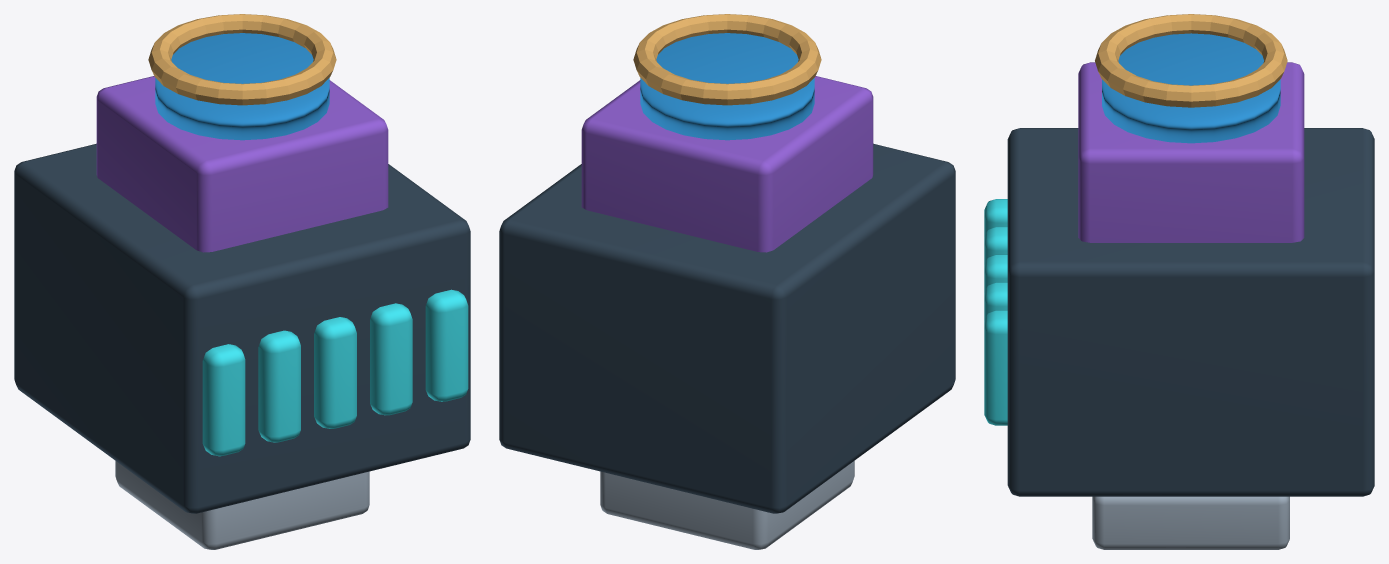
File: hyperspectral_imager.glb
The picture shows the model from 3 angles, left to right: view 1: azimuth 30°, elevation 25°; view 2: azimuth 150°, elevation 25°; view 3: azimuth 270°, elevation 25°; orthographic projection. The views are drawn at different scales.
Visible parts, largest first — view 1: Hyperspectral_Body, Spectrometer_Module, Optical_Input, Mounting_Flange, Optical_Ring, Spectral_Channel, Spectral_Channel_004, Spectral_Channel_003, Spectral_Channel_001, Spectral_Channel_002; view 2: Hyperspectral_Body, Spectrometer_Module, Optical_Input, Mounting_Flange, Optical_Ring; view 3: Hyperspectral_Body, Spectrometer_Module, Optical_Input, Mounting_Flange, Optical_Ring, Spectral_Channel_004, Spectral_Channel_002, Spectral_Channel_003, Spectral_Channel, Spectral_Channel_001.
Boxes of the visible parts, x1=… form: Hyperspectral_Body: x1=14, y1=143, x2=470, y2=513; Spectrometer_Module: x1=96, y1=76, x2=388, y2=252; Optical_Input: x1=155, y1=33, x2=329, y2=140; Mounting_Flange: x1=115, y1=461, x2=369, y2=549; Optical_Ring: x1=148, y1=14, x2=336, y2=105; Spectral_Channel: x1=202, y1=344, x2=245, y2=456; Spectral_Channel_004: x1=425, y1=289, x2=468, y2=401; Spectral_Channel_003: x1=370, y1=303, x2=412, y2=415; Spectral_Channel_001: x1=258, y1=330, x2=300, y2=442; Spectral_Channel_002: x1=314, y1=317, x2=356, y2=428; Hyperspectral_Body: x1=499, y1=143, x2=955, y2=513; Spectrometer_Module: x1=581, y1=76, x2=873, y2=252; Optical_Input: x1=640, y1=33, x2=814, y2=140; Mounting_Flange: x1=600, y1=461, x2=854, y2=549; Optical_Ring: x1=633, y1=14, x2=821, y2=105; Hyperspectral_Body: x1=1007, y1=128, x2=1374, y2=496; Spectrometer_Module: x1=1078, y1=62, x2=1304, y2=242; Optical_Input: x1=1102, y1=33, x2=1280, y2=143; Mounting_Flange: x1=1092, y1=496, x2=1289, y2=549; Optical_Ring: x1=1095, y1=14, x2=1287, y2=107; Spectral_Channel_004: x1=984, y1=310, x2=1007, y2=425; Spectral_Channel_002: x1=984, y1=254, x2=1007, y2=292; Spectral_Channel_003: x1=984, y1=282, x2=1007, y2=320; Spectral_Channel: x1=984, y1=199, x2=1007, y2=236; Spectral_Channel_001: x1=984, y1=227, x2=1007, y2=264.
Bounding box in the file's own units: 0.72 × 1.09 × 0.83.
